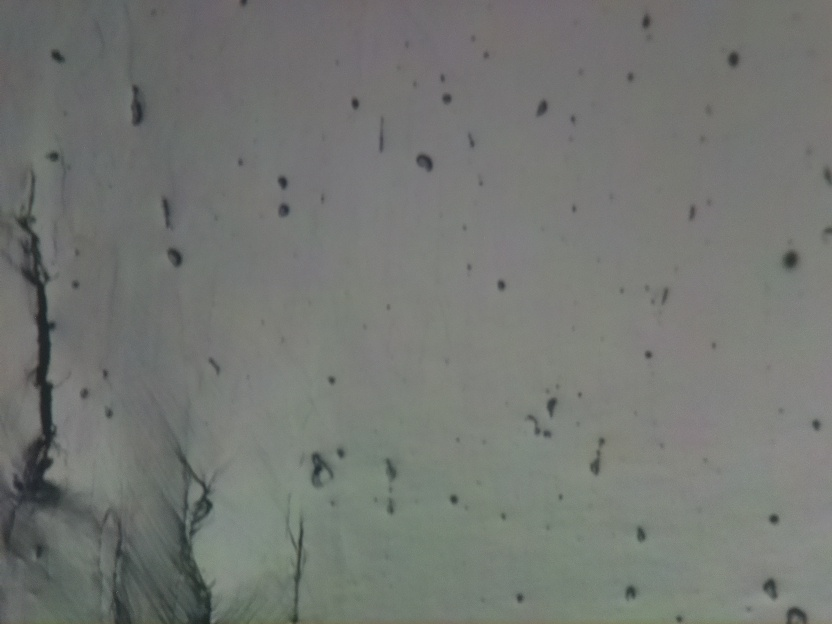crack: (11, 163, 52, 496), (176, 450, 230, 624), (95, 493, 137, 624), (288, 499, 310, 624)
